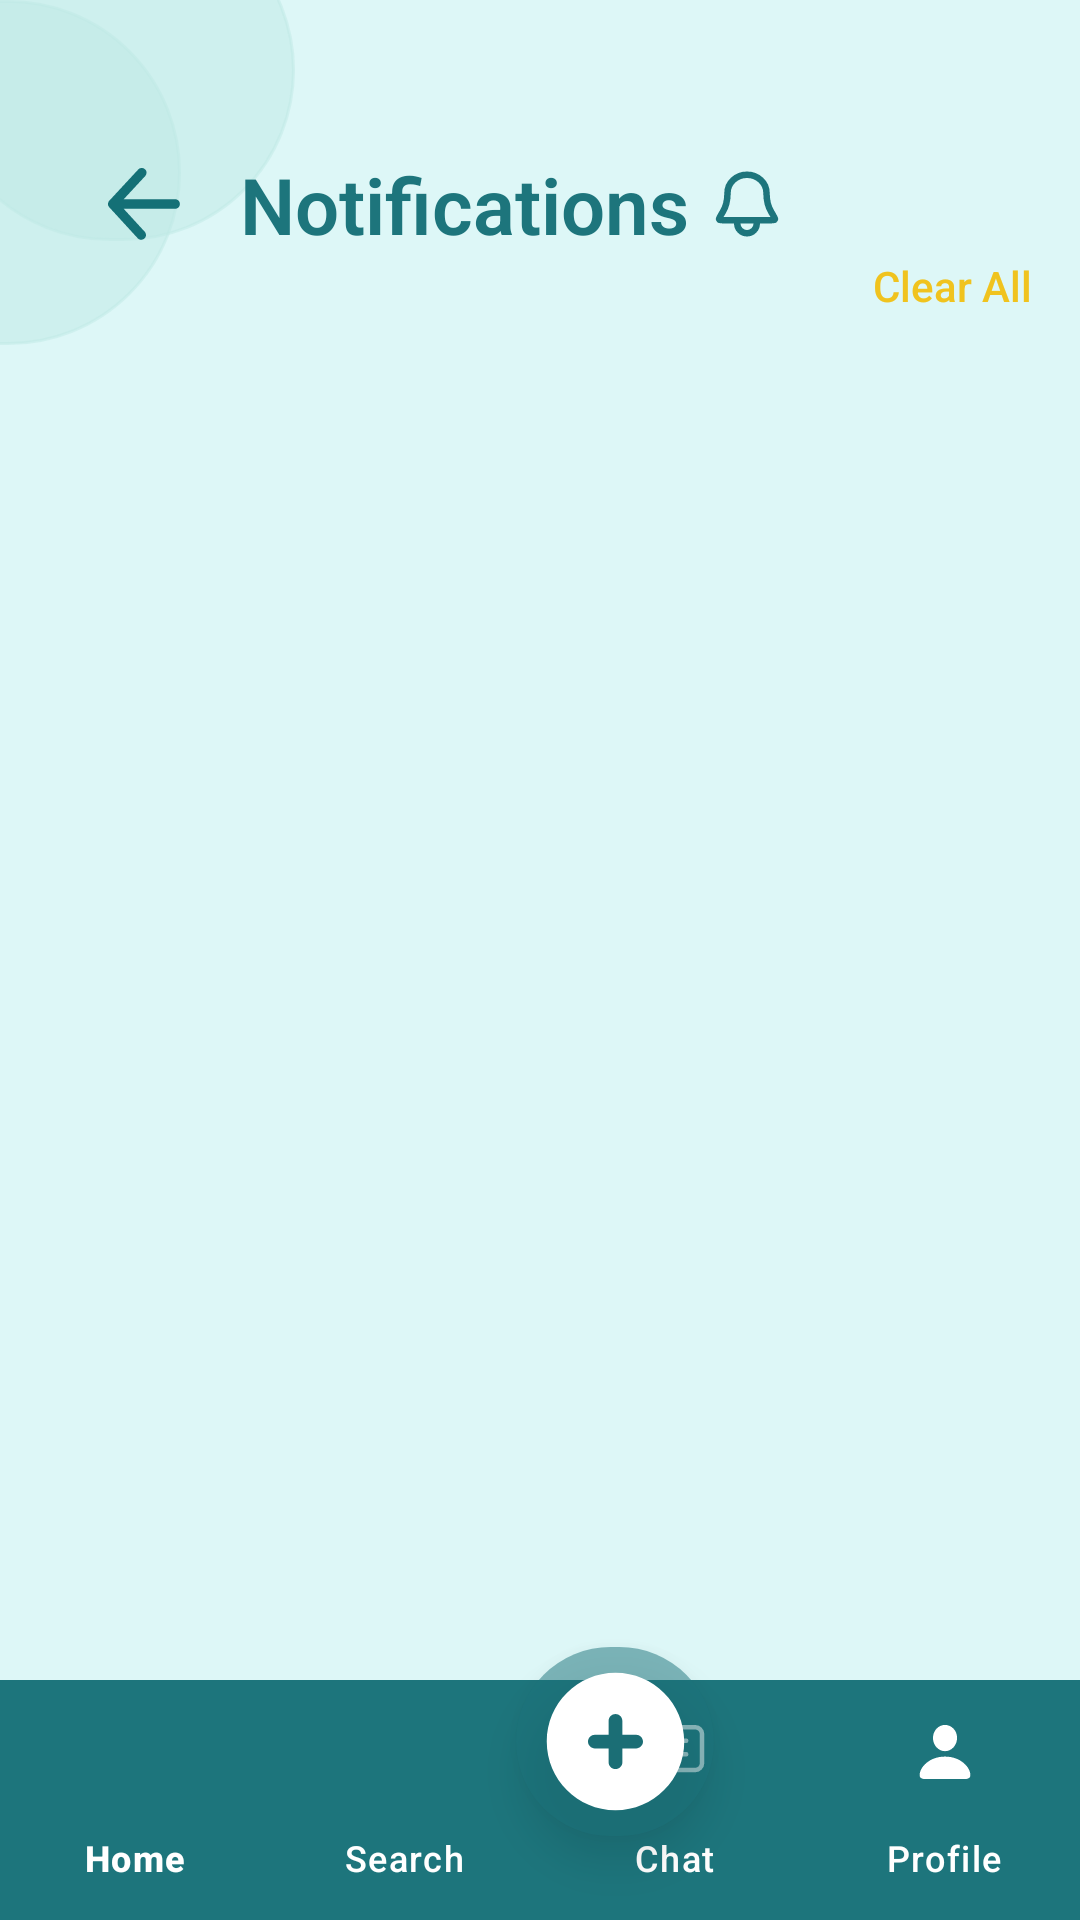

Screen size 1080 x 1920. Icon name, then its center in pixels as point (x, y):
back: point (144, 204)
plus: point (615, 1729)
